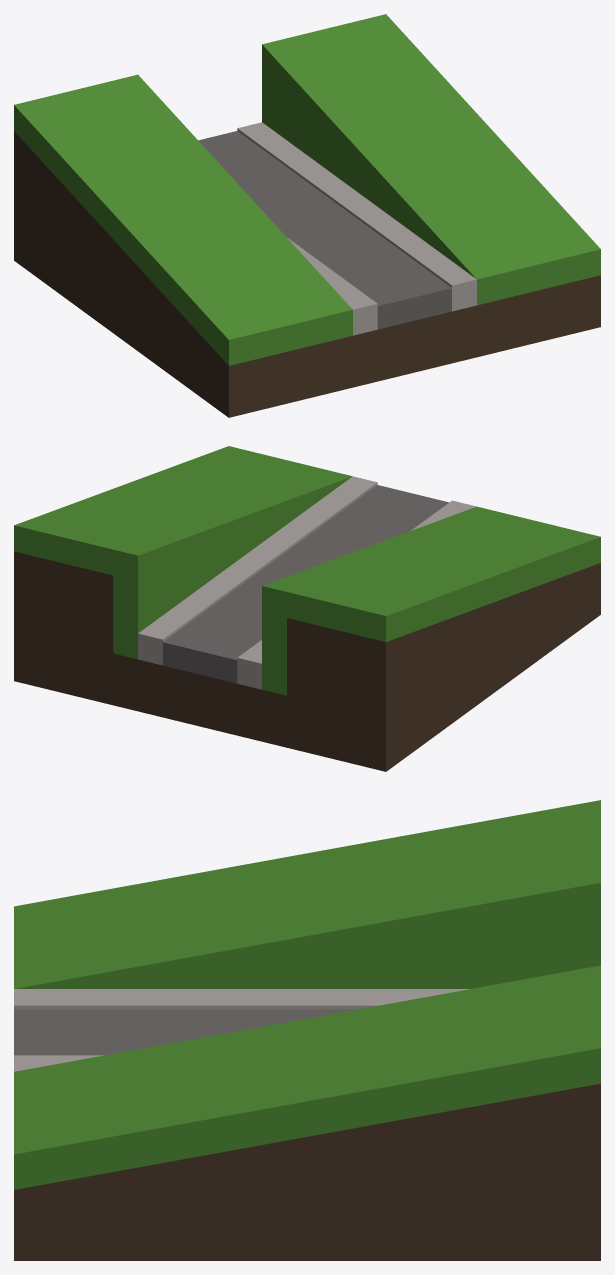
The model's file is tiles-tile-road-tunnel-entrance.glb.
3 views of the same model, one above another, from view 1: azimuth 30°, elevation 25°; view 2: azimuth 150°, elevation 25°; view 3: azimuth 270°, elevation 25° (orthographic). The views are drawn at different scales.
Visible parts, largest first — view 1: tile-road-tunnel-entrance; view 2: tile-road-tunnel-entrance; view 3: tile-road-tunnel-entrance.
Boxes of the visible parts, x1,y1,x2,y2 form: tile-road-tunnel-entrance: [14, 14, 600, 417]; tile-road-tunnel-entrance: [14, 446, 600, 771]; tile-road-tunnel-entrance: [14, 800, 600, 1260].
Size of the model in its own units: 30 by 12 by 30.
